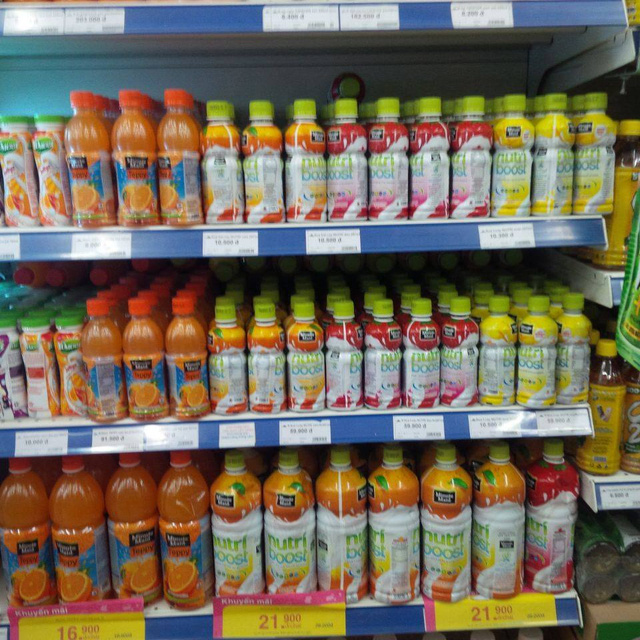c2: (626, 399, 640, 443)
minutemaid: (129, 530, 155, 545), (434, 487, 455, 504), (167, 534, 190, 547), (16, 542, 38, 554)
nutriboost: (263, 532, 310, 565), (423, 528, 469, 559), (291, 351, 325, 378), (497, 150, 528, 175)
yomost: (32, 137, 55, 153), (56, 340, 81, 354)
